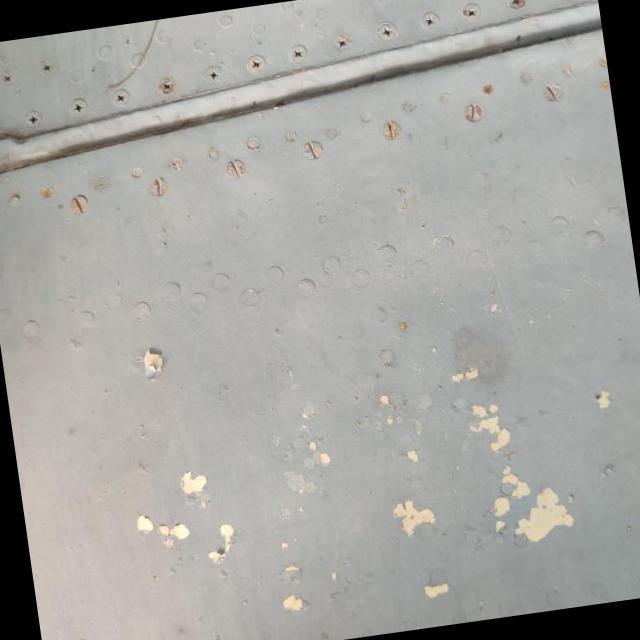Paint-off: (452, 403, 577, 557), (134, 468, 249, 585), (376, 480, 438, 566), (129, 300, 178, 387)
